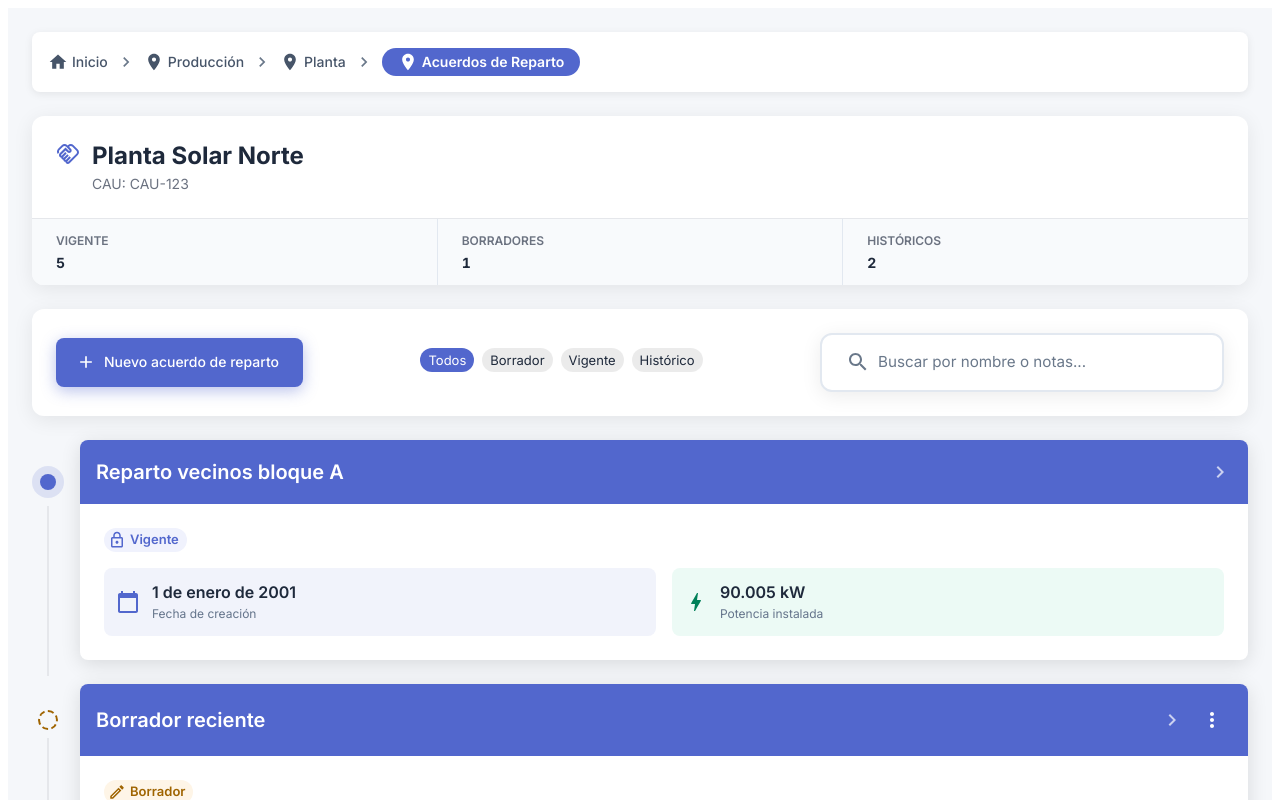
it: SharingAgreementsPage › clicking a status chip filters the cards client-side without changing the header counts
The width and height of the screenshot is (1280, 800).
Click the button "Borrador": (517, 360) [482,348,553,372]
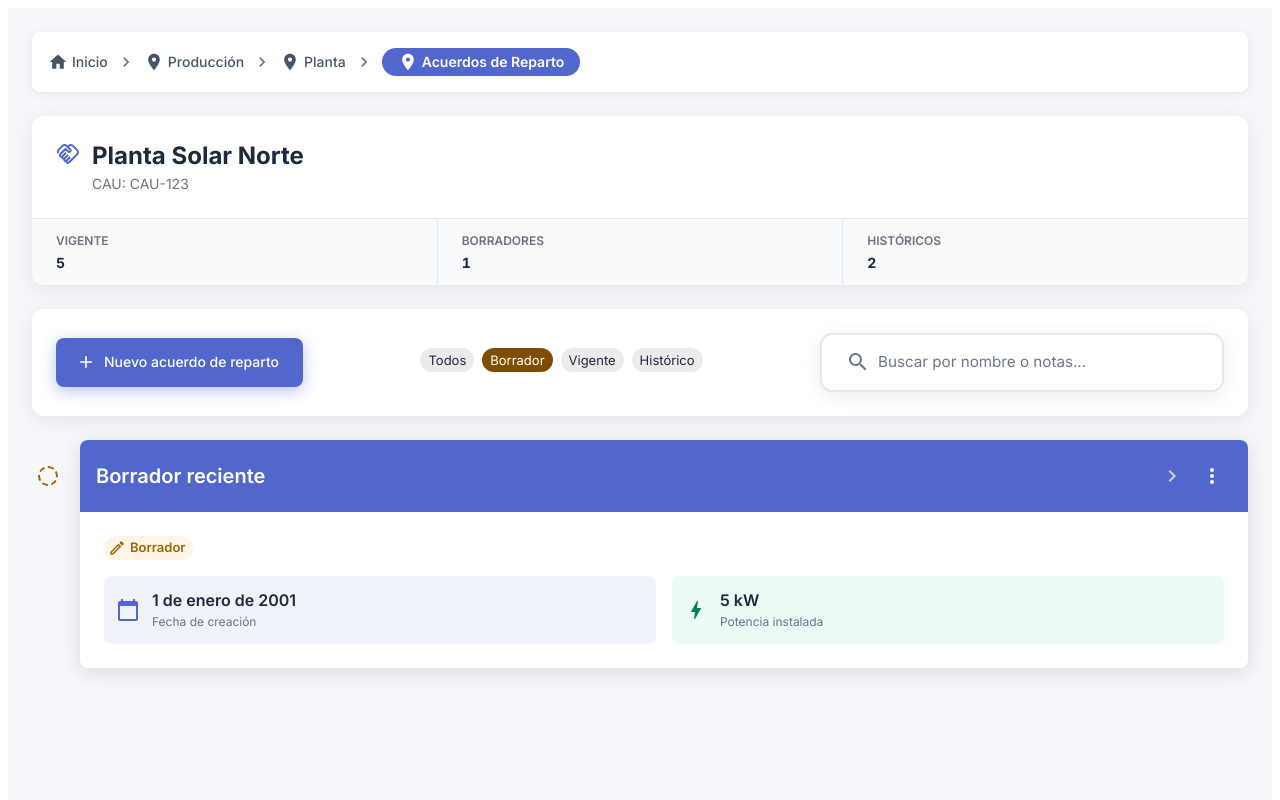
Expected: the link "Borrador reciente" is shown, [96,460,265,492]
Expected: the link "Reparto vecinos bloque A" is gone
